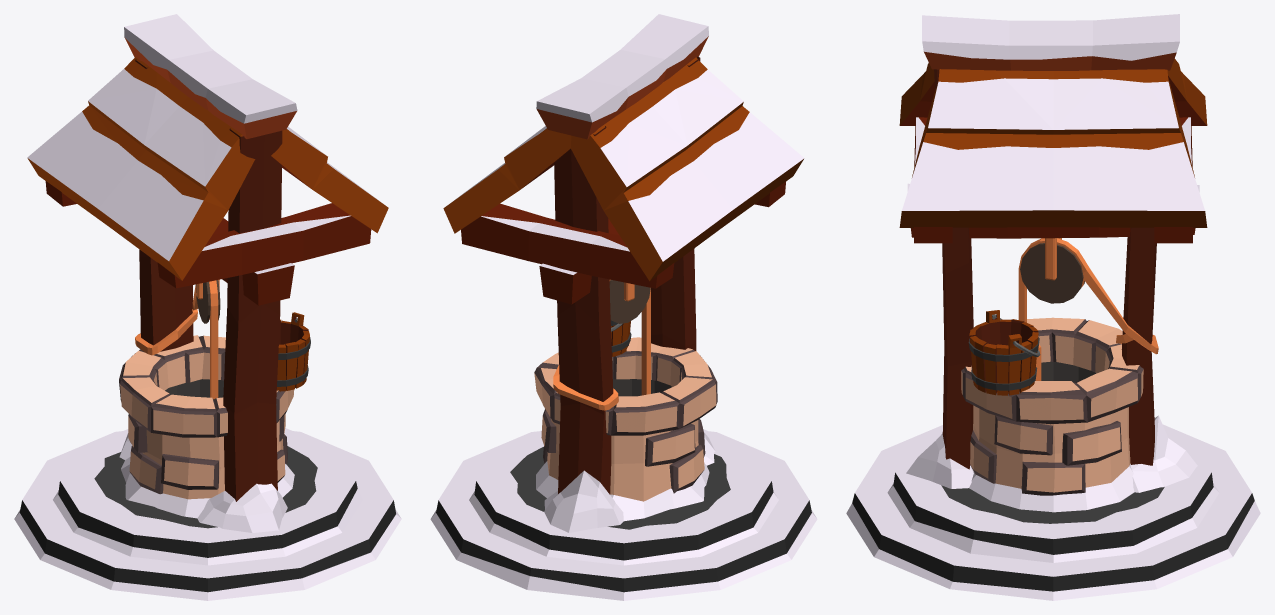
The model's file is waterhole2.glb.
3 renders of one model, left to right at view 1: azimuth 30°, elevation 25°; view 2: azimuth 150°, elevation 25°; view 3: azimuth 270°, elevation 25°, orthographic. The views are drawn at different scales.
Visible parts, largest first — view 1: Waterhole2; view 2: Waterhole2; view 3: Waterhole2.
Boxes of the visible parts, x1=… form: Waterhole2: x1=14, y1=14, x2=401, y2=600; Waterhole2: x1=430, y1=14, x2=817, y2=600; Waterhole2: x1=846, y1=14, x2=1260, y2=600.
Size of what is drawn, in the model's own units: 1.48 by 1.92 by 1.48.
Materials: 1 (1 with a texture image).
